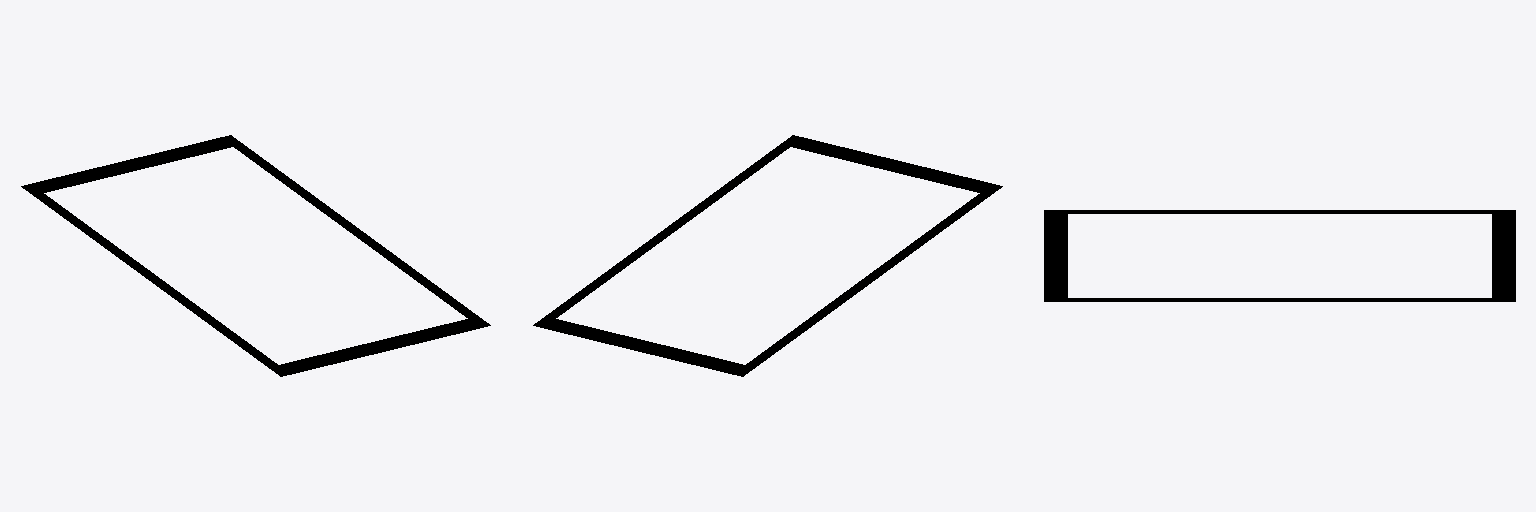
URDF robot description (zone_rect.urdf):
<?xml version="1.0" ?>
<robot name="zone_rect.urdf">
  <link name="baseLink">
    <contact>
      <lateral_friction value="1.0"/>
      <inertia_scaling value="3.0"/>
    </contact>
    <inertial>
      <origin rpy="0 0 0" xyz="-0.01 0 0.02"/>
       <mass value=".1"/>
       <inertia ixx="1" ixy="0" ixz="0" iyy="1" iyz="0" izz="1"/>
    </inertial>
    <visual>
      <origin rpy="0 0 0" xyz="0 0 0"/>
      <geometry>
				<mesh filename="zone_rect.obj" scale="0.006 0.006 0.00005"/>
      </geometry>
      <material name="black">
        <color rgba="0 0 0 1"/>
      </material>
    </visual>
  </link>
</robot>

--- Facts derived from the render (not from the file) ---
Views: 3 orthographic renders of the robot side by side, from view 1: azimuth 30°, elevation 25°; view 2: azimuth 150°, elevation 25°; view 3: azimuth 270°, elevation 25°.
Model zone_rect.urdf with 1 links and 0 joints (none), rooted at baseLink, posed all joints at 0.
Links seen in each view (by area): view 1: baseLink; view 2: baseLink; view 3: baseLink.
Link boxes in pixels (<box>): baseLink: <box>21,135,490,376</box>; baseLink: <box>533,135,1002,376</box>; baseLink: <box>1044,210,1515,301</box>.
Bounding box of the posed robot: 0.1596 × 0.3423 × 0 m (x, y, z).
Meshes: 1 distinct files referenced, 1 mesh visuals loaded (1 OBJ).
